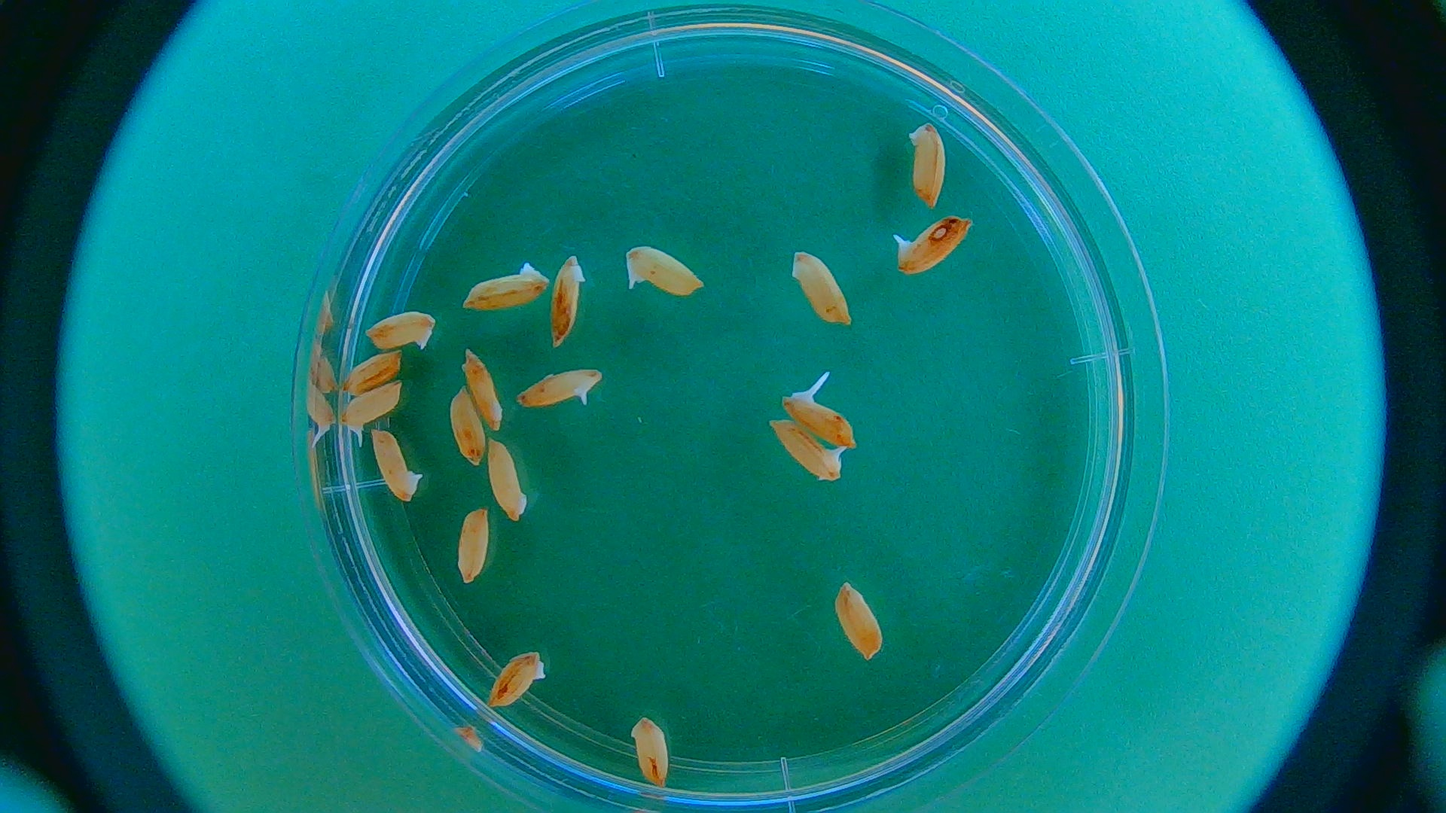no: (782, 245, 858, 335), (459, 252, 555, 319), (831, 575, 888, 669), (901, 116, 954, 215), (549, 249, 600, 350), (461, 345, 511, 434), (362, 303, 442, 358), (325, 349, 411, 400), (488, 437, 534, 528), (452, 500, 494, 598), (485, 647, 547, 711), (441, 385, 489, 467), (371, 431, 420, 504), (631, 715, 674, 790)
yes: (773, 419, 843, 481), (895, 215, 969, 273), (623, 245, 703, 298), (783, 397, 856, 448), (517, 367, 600, 410), (345, 383, 403, 440)
